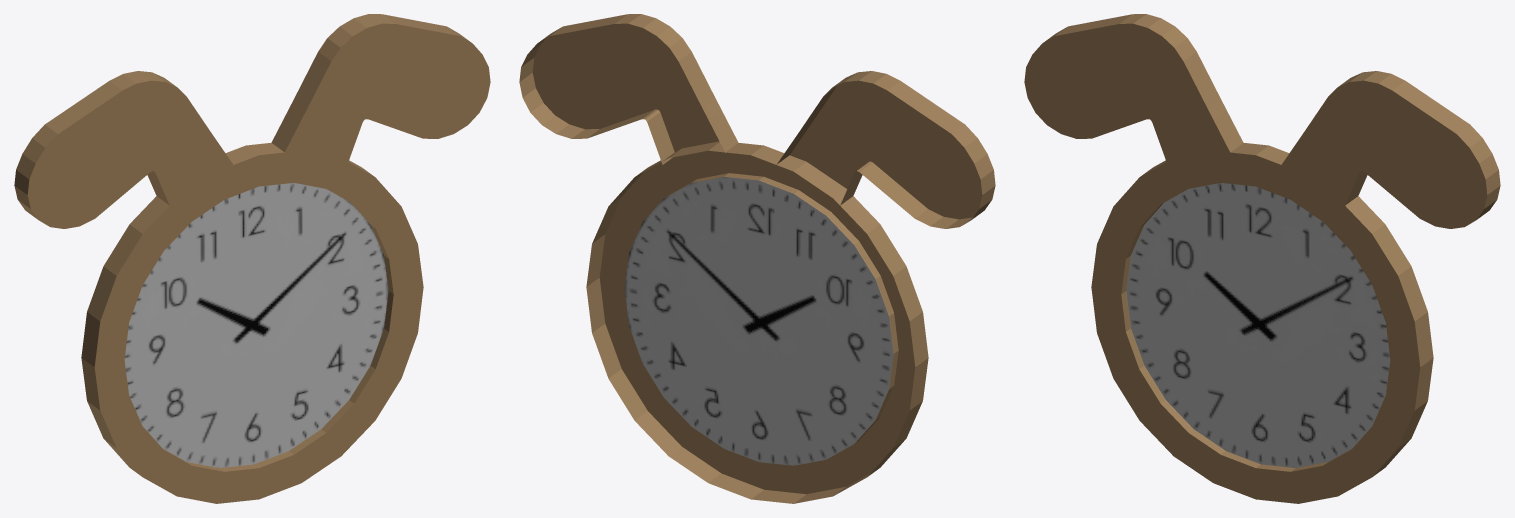
Rendered from team clock.fbx.
The picture shows the model from 3 angles, left to right: view 1: azimuth 30°, elevation 25°; view 2: azimuth 150°, elevation 25°; view 3: azimuth 330°, elevation 25°; orthographic projection.
Visible parts, largest first — view 1: clock; view 2: clock; view 3: clock.
Boxes of the visible parts, x1,y1,x2,y2 form: clock: (14, 14, 490, 503); clock: (519, 14, 995, 503); clock: (1024, 14, 1500, 503).
Bounding box in the file's own units: 267 × 245 × 13.27.
1 material, 1 textured.
